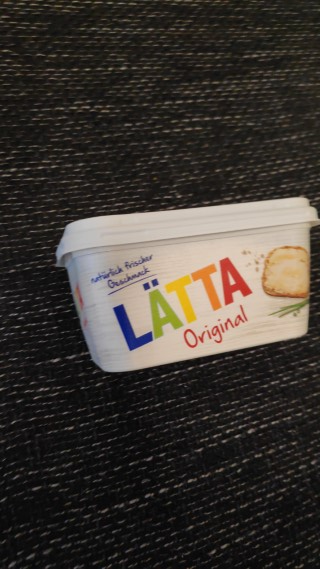laetta: (55, 197, 320, 373)
